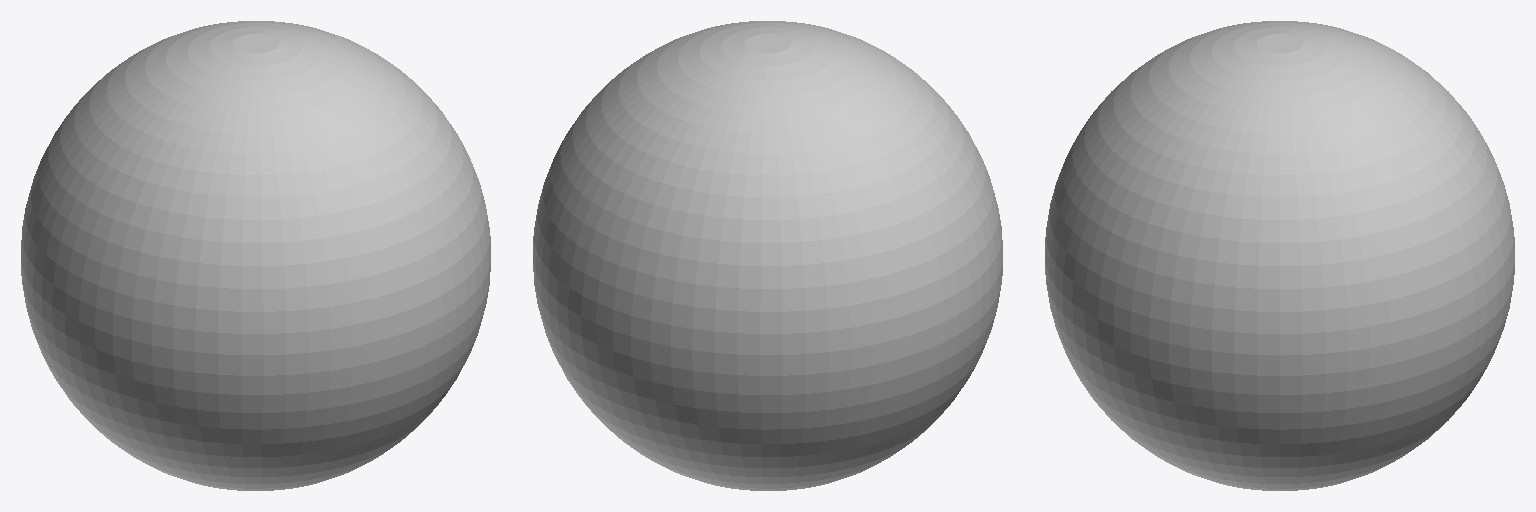
The model's file is ball7.obj.
The picture shows the model from 3 angles: view 1: azimuth 30°, elevation 25°; view 2: azimuth 150°, elevation 25°; view 3: azimuth 270°, elevation 25°; orthographic projection.
Visible parts, largest first — view 1: planet_Sphere.007; view 2: planet_Sphere.007; view 3: planet_Sphere.007.
Boxes of the visible parts, x1=… form: planet_Sphere.007: x1=21, y1=21, x2=490, y2=490; planet_Sphere.007: x1=533, y1=21, x2=1002, y2=490; planet_Sphere.007: x1=1045, y1=21, x2=1514, y2=490.
Size of the model in its own units: 0.2214 by 0.2204 by 0.2214.